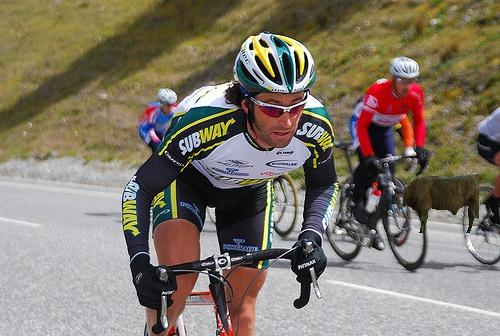tampered: (400, 174, 479, 233)
